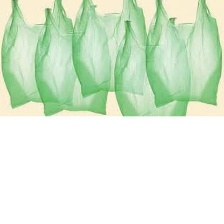plastic_bag: (31, 0, 116, 120), (141, 0, 224, 110), (108, 13, 191, 121), (0, 0, 80, 110), (69, 0, 153, 100)
